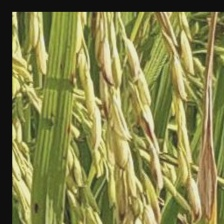Leaf_Blast: (193, 14, 220, 221)
